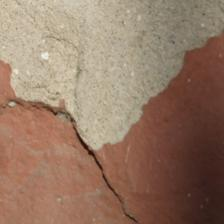Crack: (4, 50, 131, 171)
